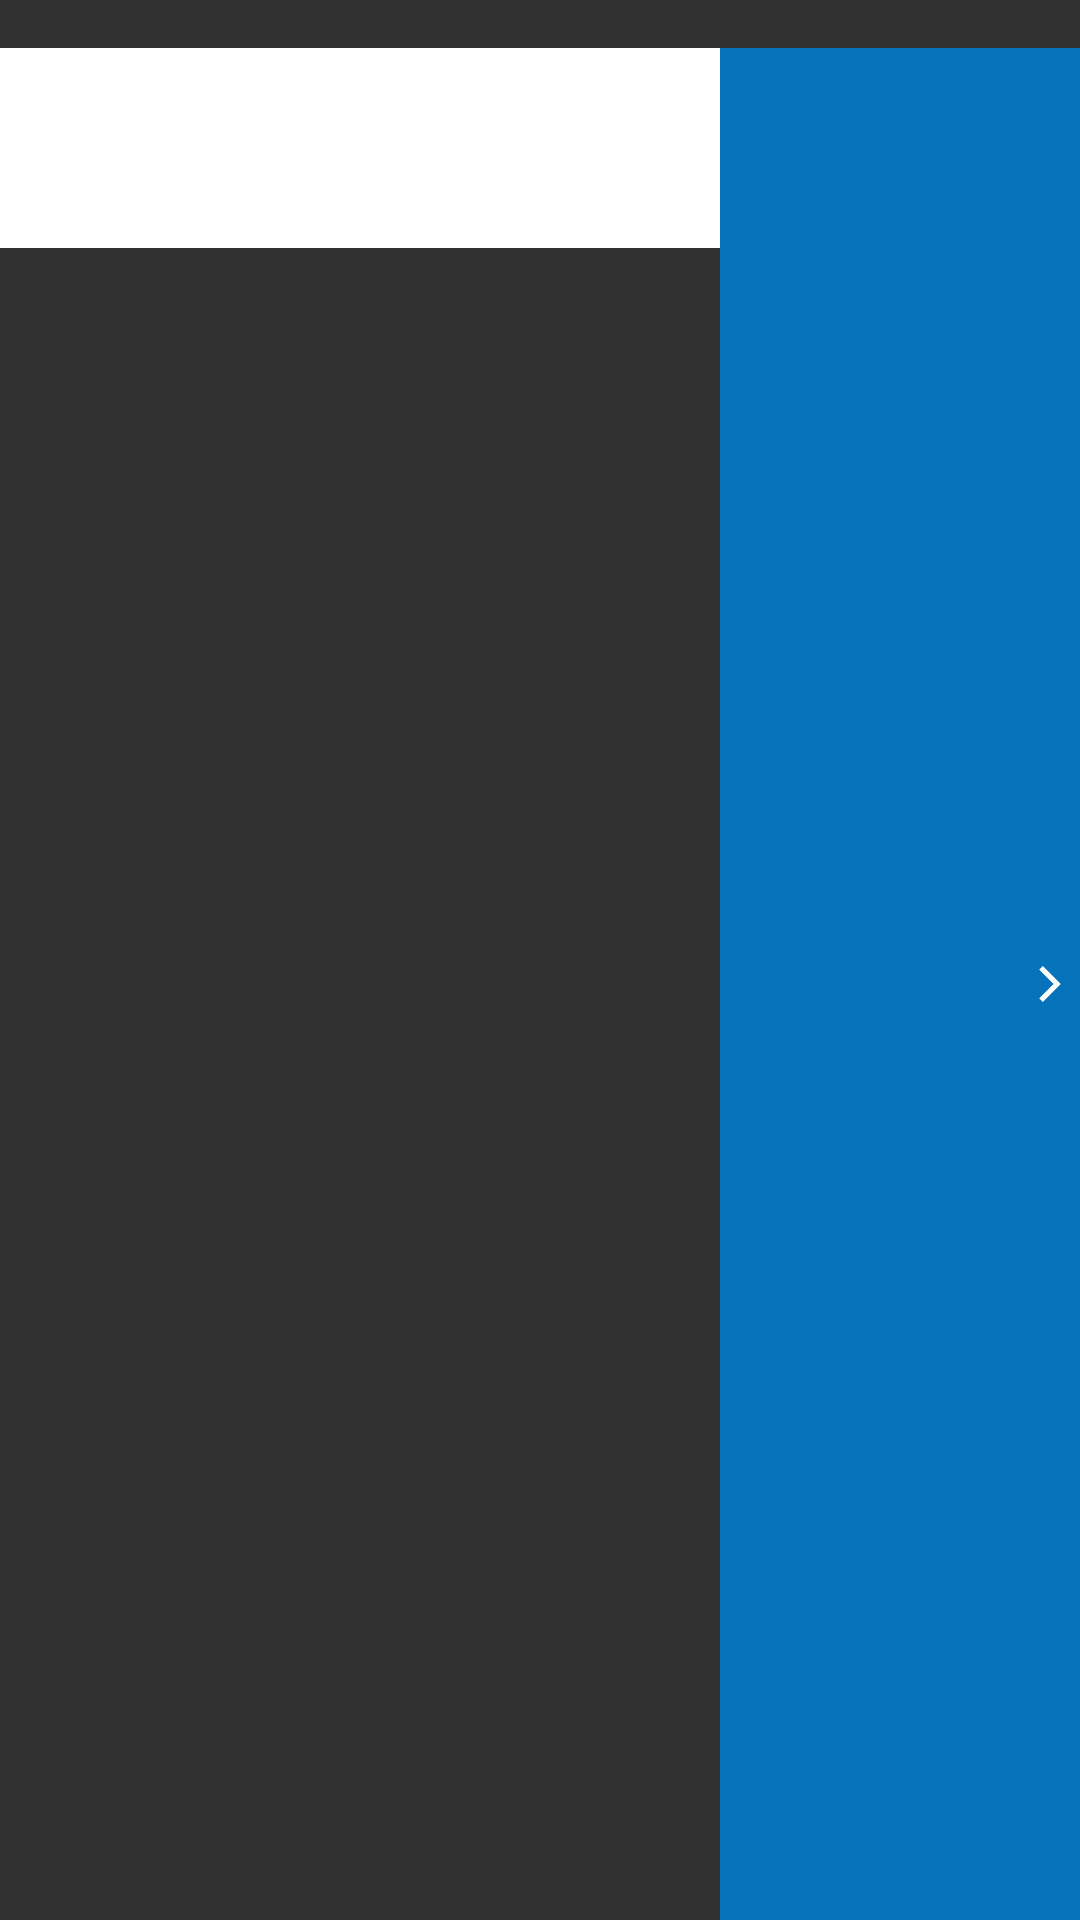

Named icons in this screenshot (1080w x 1920h) and their bounding boxes, (x1, y1, x2, y2):
right arrow: (1039, 966, 1061, 1002)
